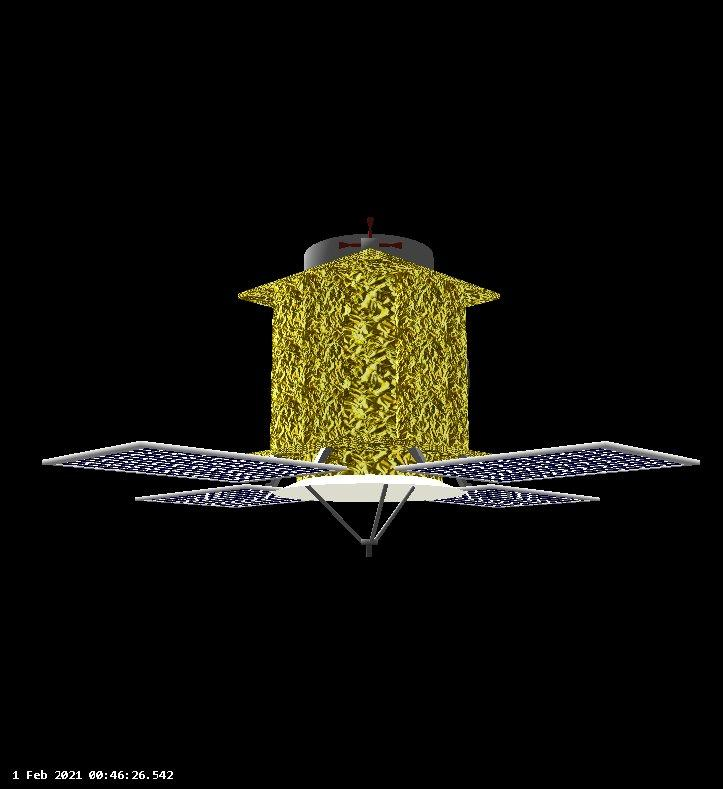antenna: (263, 470, 473, 561)
body: (234, 245, 504, 470)
solar: (38, 435, 355, 488), (381, 435, 704, 486), (429, 472, 607, 513), (130, 482, 324, 513)
thruster: (372, 238, 408, 253), (332, 238, 364, 251), (364, 210, 376, 244)
